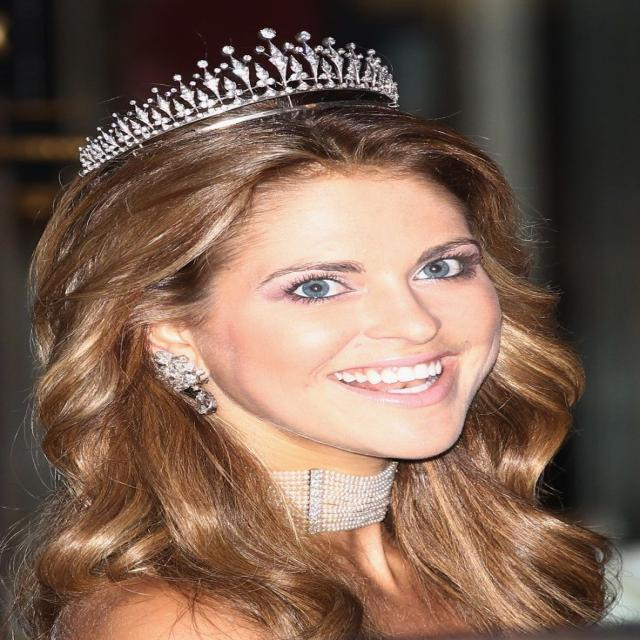Earring: (138, 330, 228, 430)
